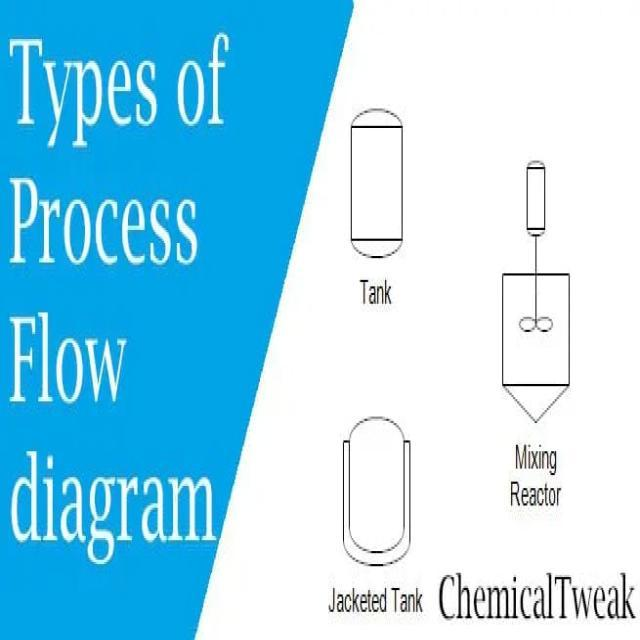Tank: (340, 91, 418, 272)
